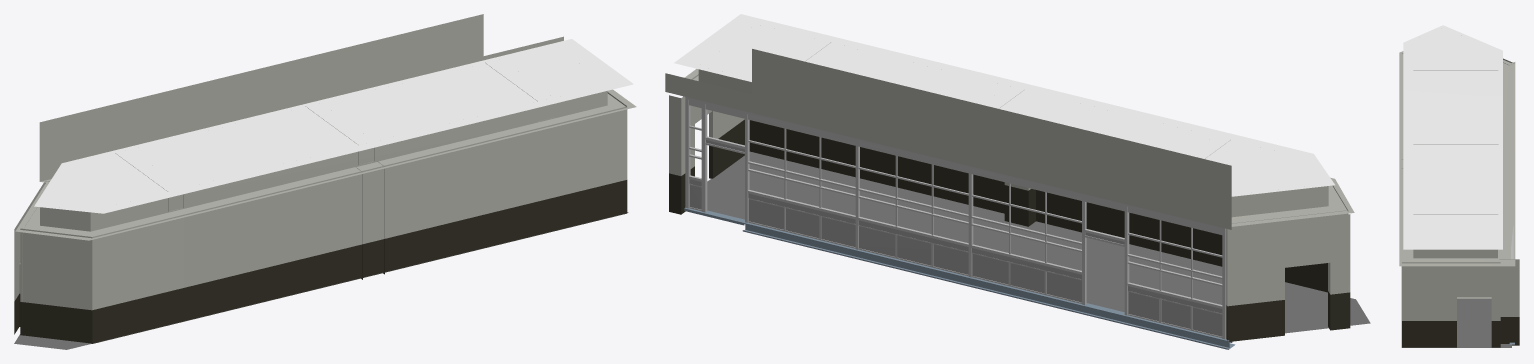
Rendered from SM_H_Building_Tide_Canteen_03I_ATLAS.fbx.
3 views of the same model, side by side, from view 1: azimuth 30°, elevation 25°; view 2: azimuth 150°, elevation 25°; view 3: azimuth 270°, elevation 25° (orthographic). The views are drawn at different scales.
Parts seen in each view (by area): view 1: SM_H_Building_Tide_Canteen_03I_ATLAS; view 2: SM_H_Building_Tide_Canteen_03I_ATLAS; view 3: SM_H_Building_Tide_Canteen_03I_ATLAS.
Part boxes in pixels (x1,y1,x2,y2): SM_H_Building_Tide_Canteen_03I_ATLAS: (14, 14, 636, 349); SM_H_Building_Tide_Canteen_03I_ATLAS: (665, 14, 1370, 349); SM_H_Building_Tide_Canteen_03I_ATLAS: (1399, 25, 1519, 347).
Bounding box in the file's own units: 2572 × 557 × 701.
